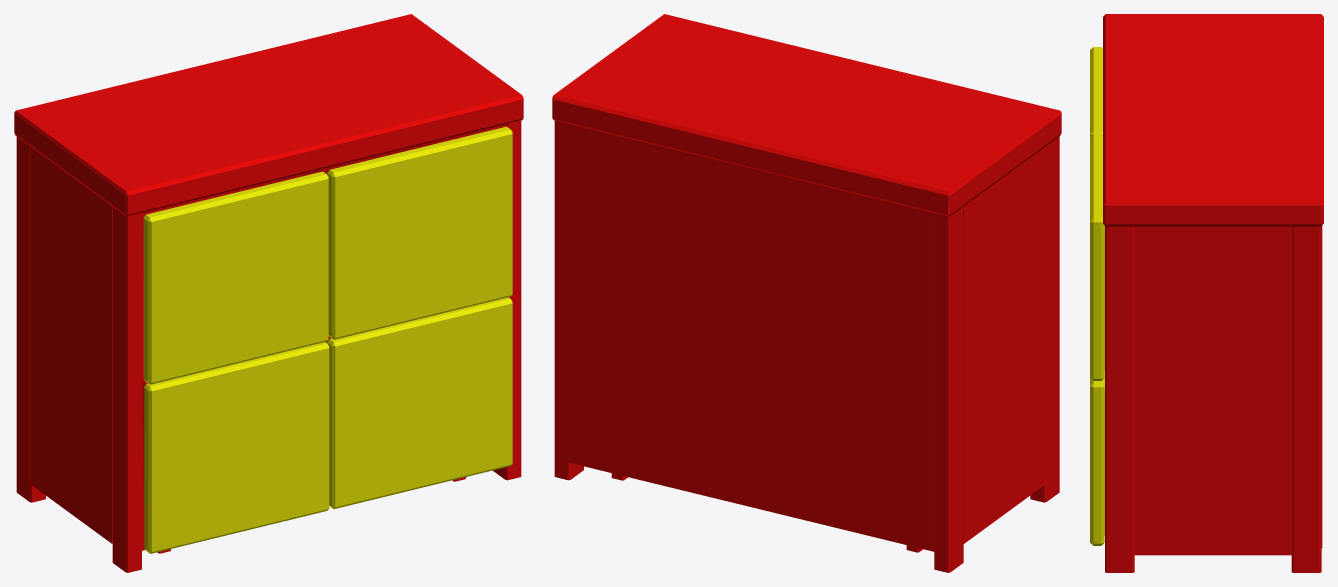
File: dressers_grp.fbx
3 renders of one model, left to right at view 1: azimuth 30°, elevation 25°; view 2: azimuth 150°, elevation 25°; view 3: azimuth 270°, elevation 25°, orthographic. The views are drawn at different scales.
Visible parts, largest first — view 1: dresser_210_1, dresser_drawer_210_1a, dresser_drawer_210_1b, dresser_drawer_210_1c, dresser_drawer_210_1d; view 2: dresser_210_1; view 3: dresser_210_1, dresser_drawer_210_1b, dresser_drawer_210_1d, dresser_drawer_210_1a.
Part boxes in pixels (left/top/right/bottom): dresser_210_1: left=14, top=14, right=523, bottom=572; dresser_drawer_210_1a: left=143, top=171, right=328, bottom=384; dresser_drawer_210_1b: left=327, top=126, right=512, bottom=339; dresser_drawer_210_1c: left=144, top=342, right=329, bottom=553; dresser_drawer_210_1d: left=327, top=297, right=512, bottom=509; dresser_210_1: left=552, top=14, right=1061, bottom=572; dresser_210_1: left=1103, top=14, right=1323, bottom=572; dresser_drawer_210_1b: left=1090, top=134, right=1104, bottom=380; dresser_drawer_210_1d: left=1090, top=371, right=1104, bottom=545; dresser_drawer_210_1a: left=1090, top=47, right=1102, bottom=136.
Size of the model in its own units: 119 by 109 by 62.06.
